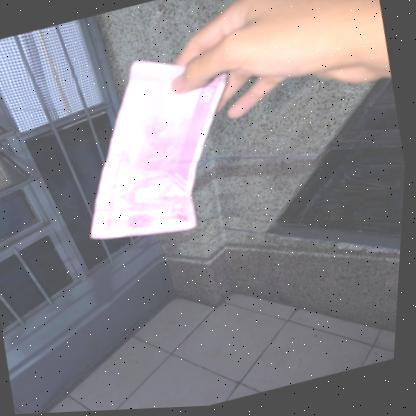vef_back: (58, 39, 259, 255)
